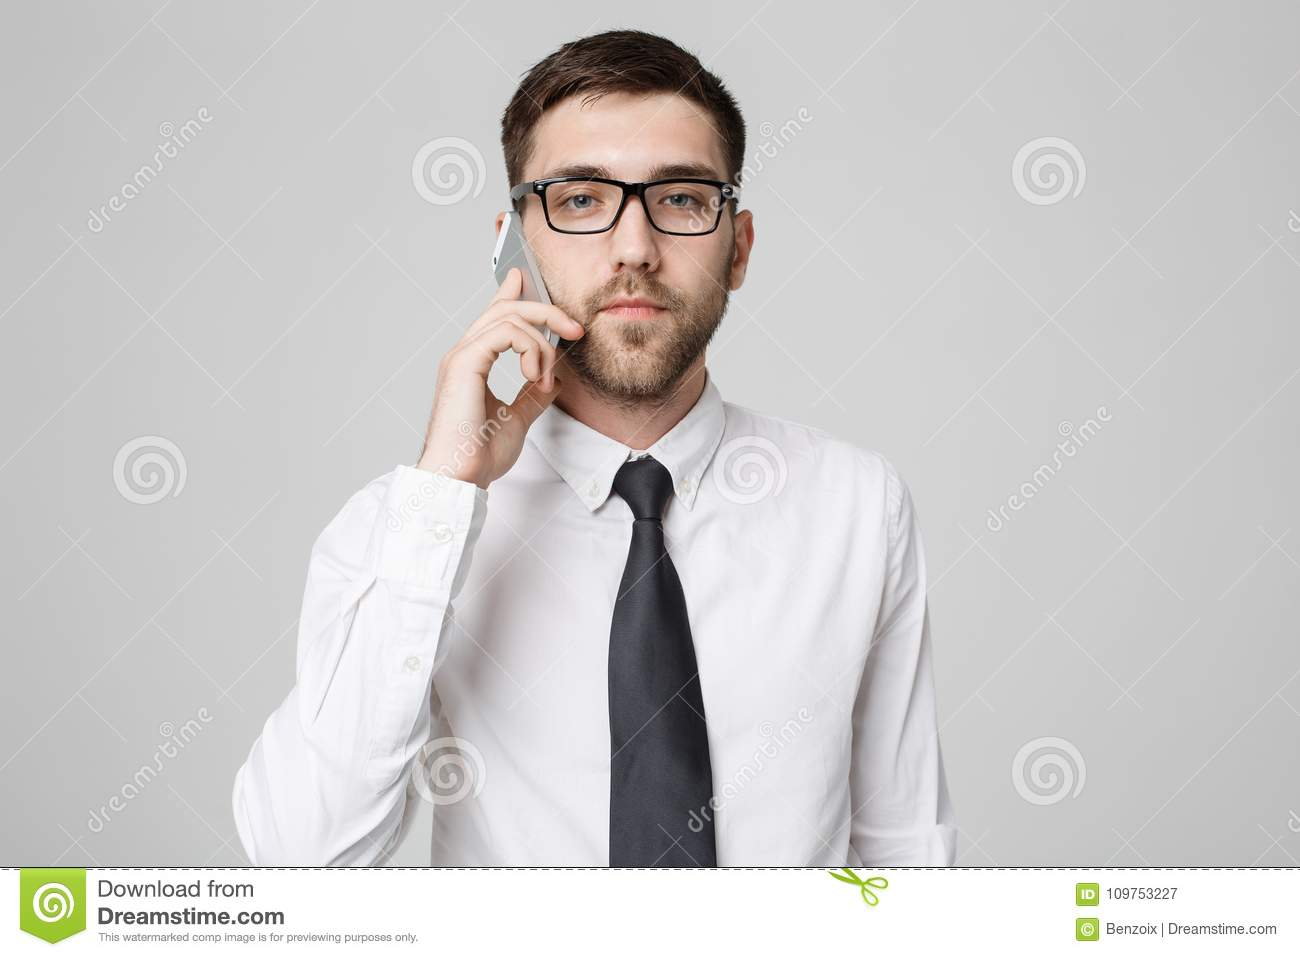phone: (489, 210, 557, 391)
talk: (421, 147, 720, 501)
